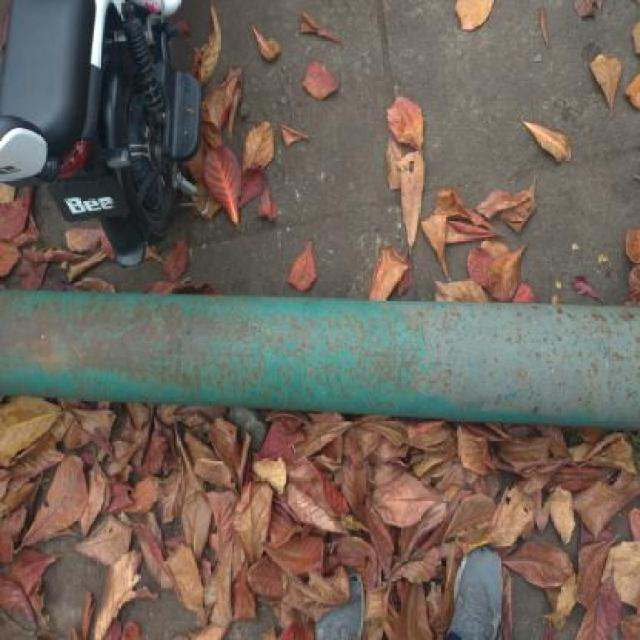gas: (1, 289, 640, 435)
